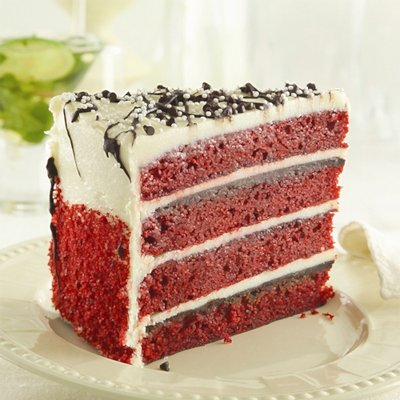sushi: (39, 73, 351, 369)
